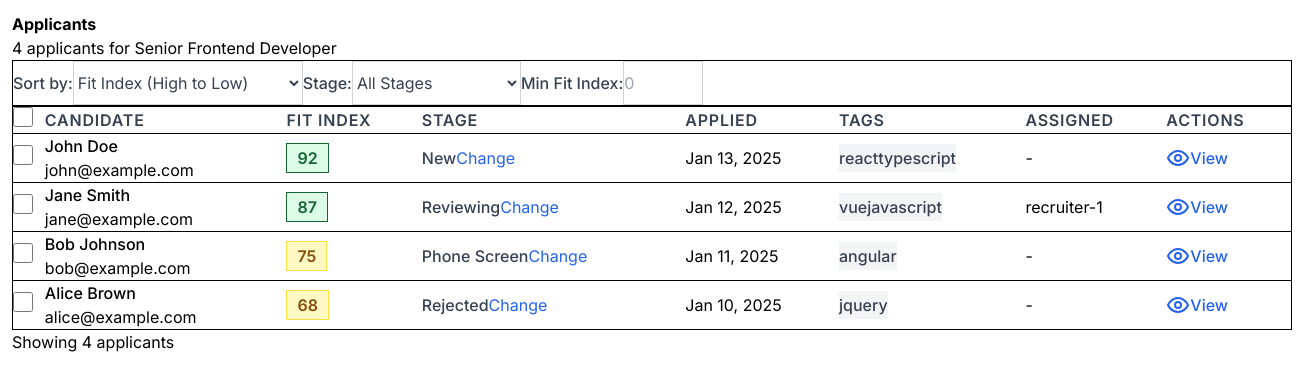
Test: ApplicantList Component › should select all applicants with select all checkbox
Click the checkbox named "select all" at x=23, y=117, box [13, 107, 33, 127]
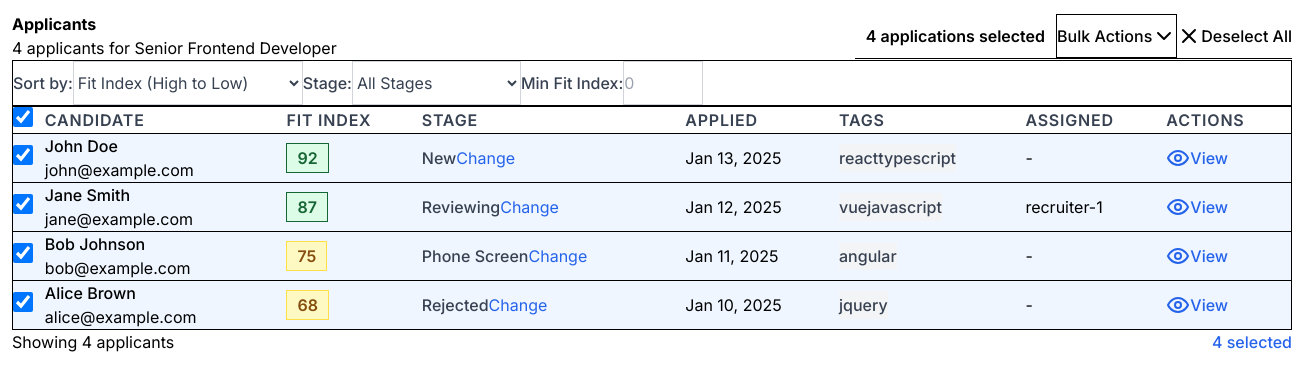
Now the checkbox named "select applicant" is checked, box [13, 145, 33, 165]
